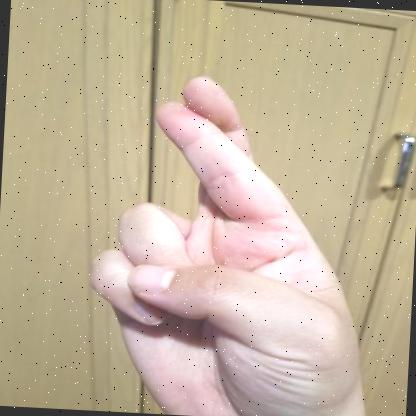R: (88, 76, 365, 416)
